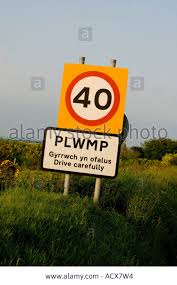Speed_limit_40km: (66, 71, 120, 126)
